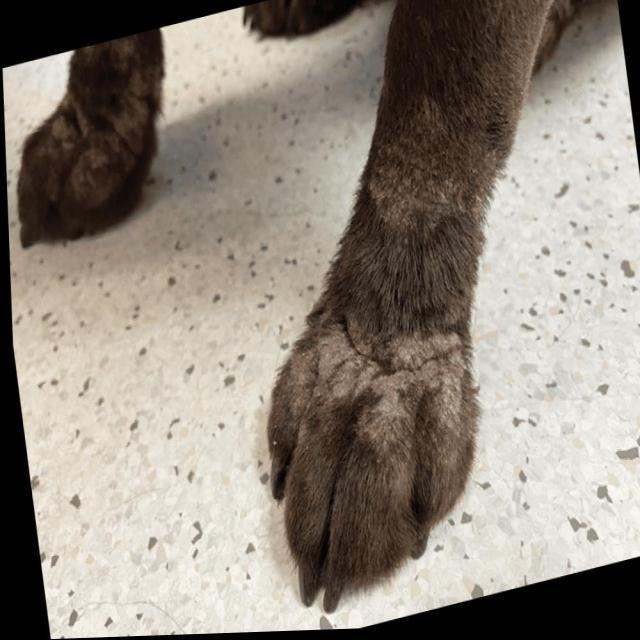mange: (398, 322, 466, 424), (314, 320, 368, 403), (364, 340, 410, 431)
